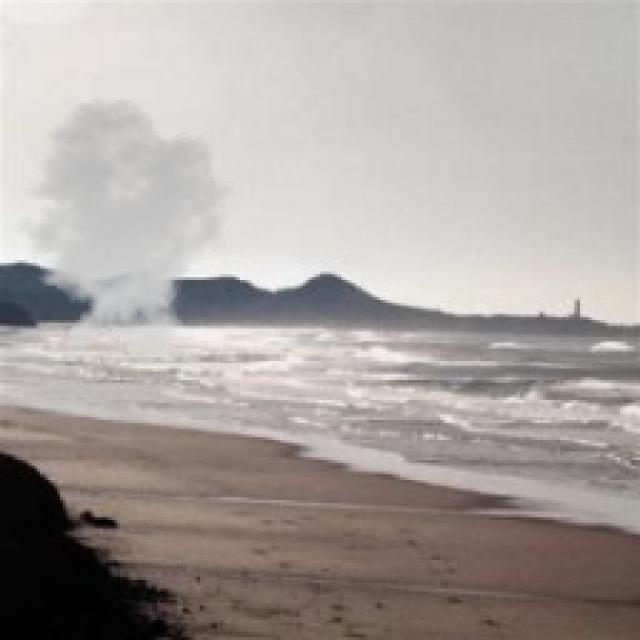smoke: (3, 97, 240, 366)
